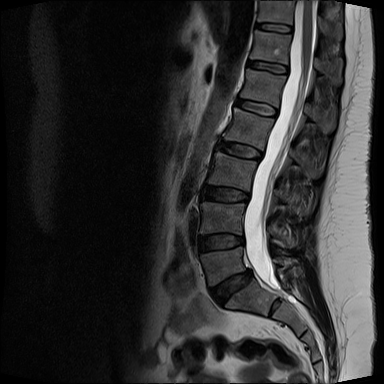Lumbar Disc Bulge LDB: (201, 265, 258, 313)
Normal IVD: (196, 227, 251, 258), (198, 181, 254, 210), (215, 139, 267, 165), (232, 94, 281, 121), (242, 57, 292, 78), (248, 21, 296, 36)
Spinal Stenosis SS: (241, 264, 259, 288)
